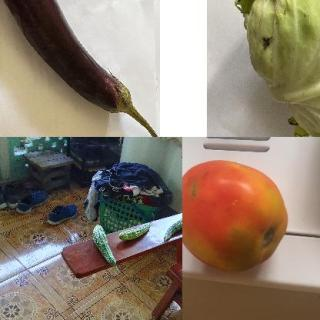Tomat: (183, 151, 292, 284)
